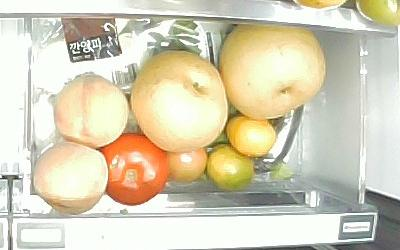peach: (52, 71, 132, 151), (32, 140, 109, 214)
pear: (218, 20, 329, 121), (129, 48, 229, 154)
tangerine: (205, 143, 255, 194), (224, 112, 277, 158)
tomato: (95, 131, 171, 206), (164, 144, 207, 185)
